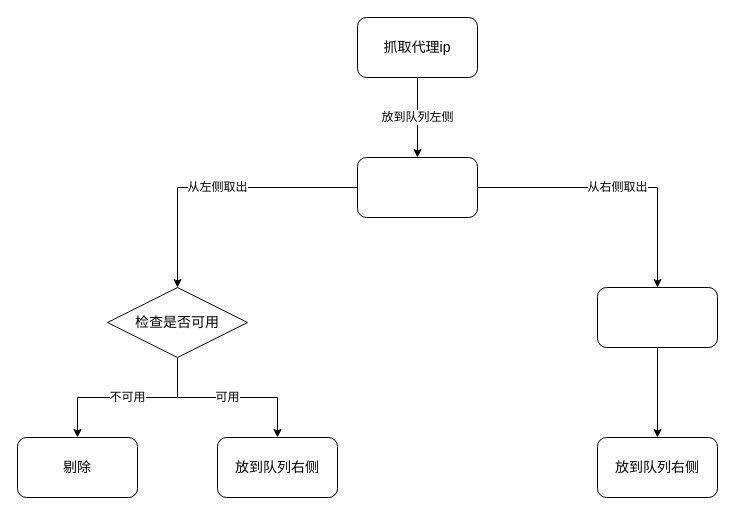
Some shapes in this 735 by 515 pixel diagram are drawn without their labels. The centre of each missing label's shape, as x and y in pixels:
"代理队列" belongs at (417,187).
"使用" belongs at (657,317).
